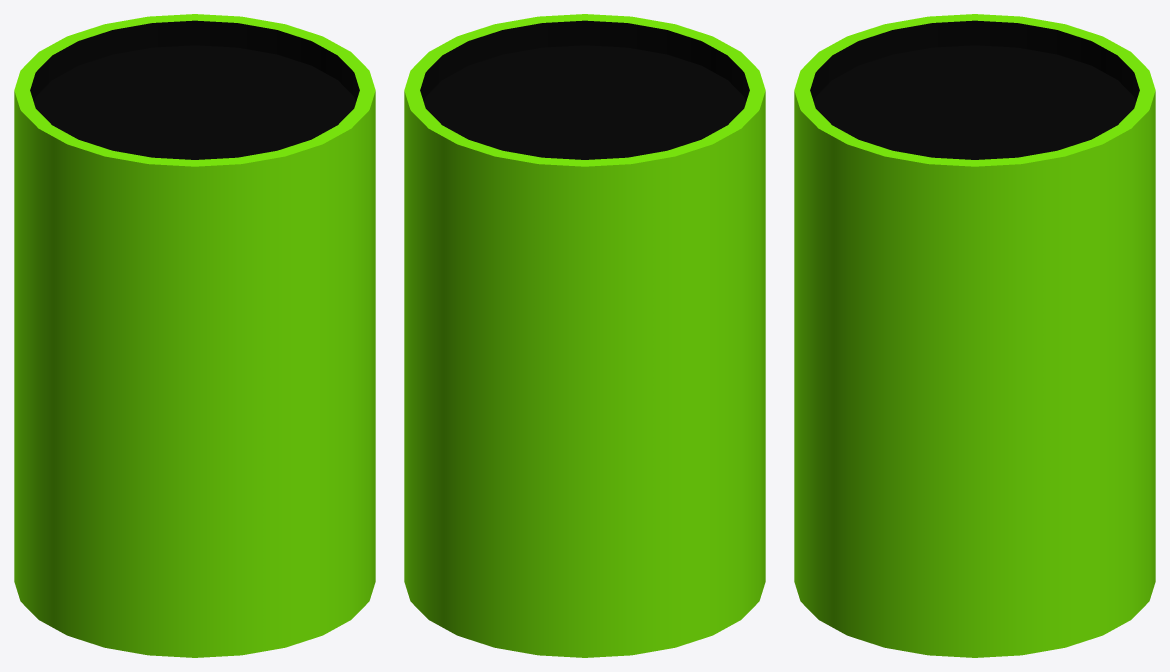
File: Cannon_barrel.dae
The picture shows the model from 3 angles, left to right: view 1: azimuth 30°, elevation 25°; view 2: azimuth 150°, elevation 25°; view 3: azimuth 270°, elevation 25°; orthographic projection.
Visible parts, largest first — view 1: SketchUp (×2); view 2: SketchUp (×2); view 3: SketchUp (×2).
Boxes of the visible parts, box(x1,y1,x2,y2) form: SketchUp (×2): box(14, 14, 375, 657); SketchUp (×2): box(404, 14, 765, 657); SketchUp (×2): box(794, 14, 1155, 657).
Size of the model in its own units: 15.75 by 15.75 by 23.62.
